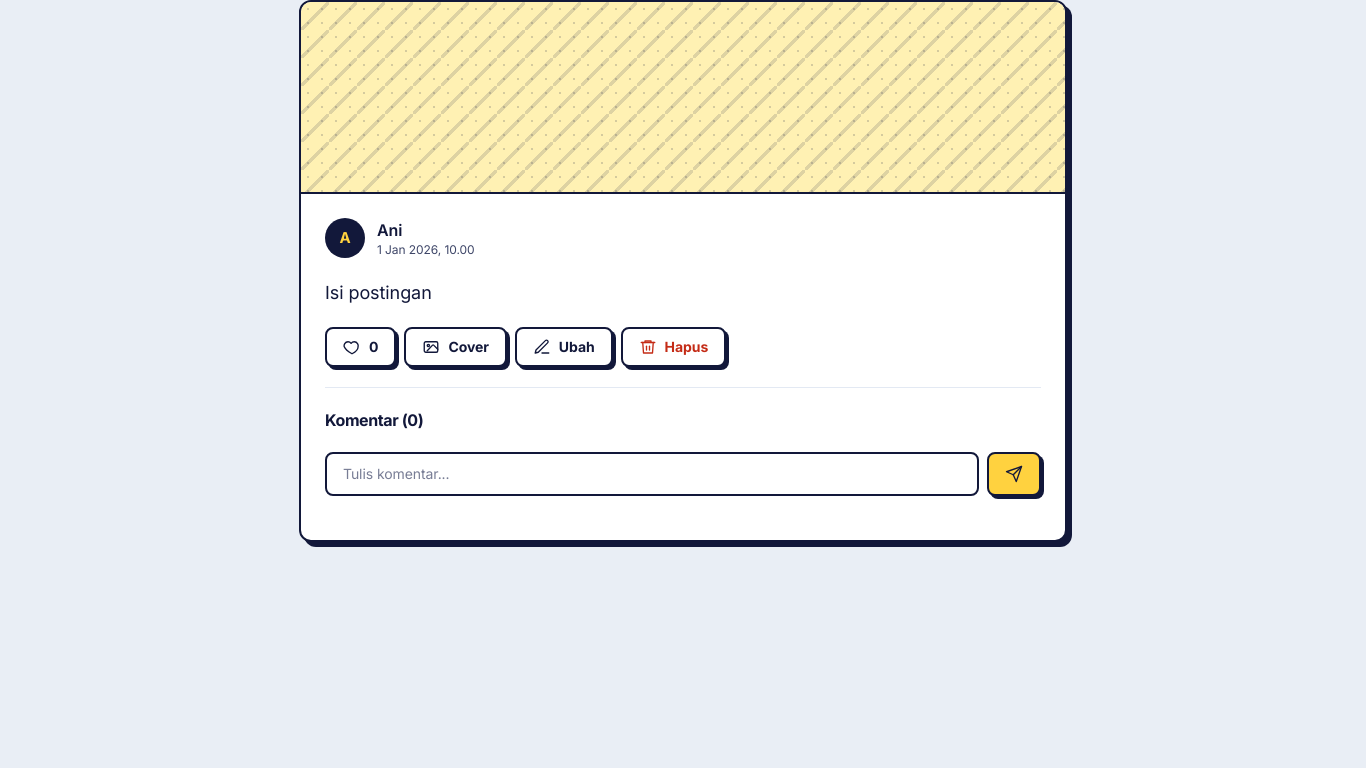
Scenario: DetailPage › aksi pemilik › membuka modal ubah postingan dan menutupnya
Click the button "Ubah". click: (564, 347)
box: [515,327,613,367]
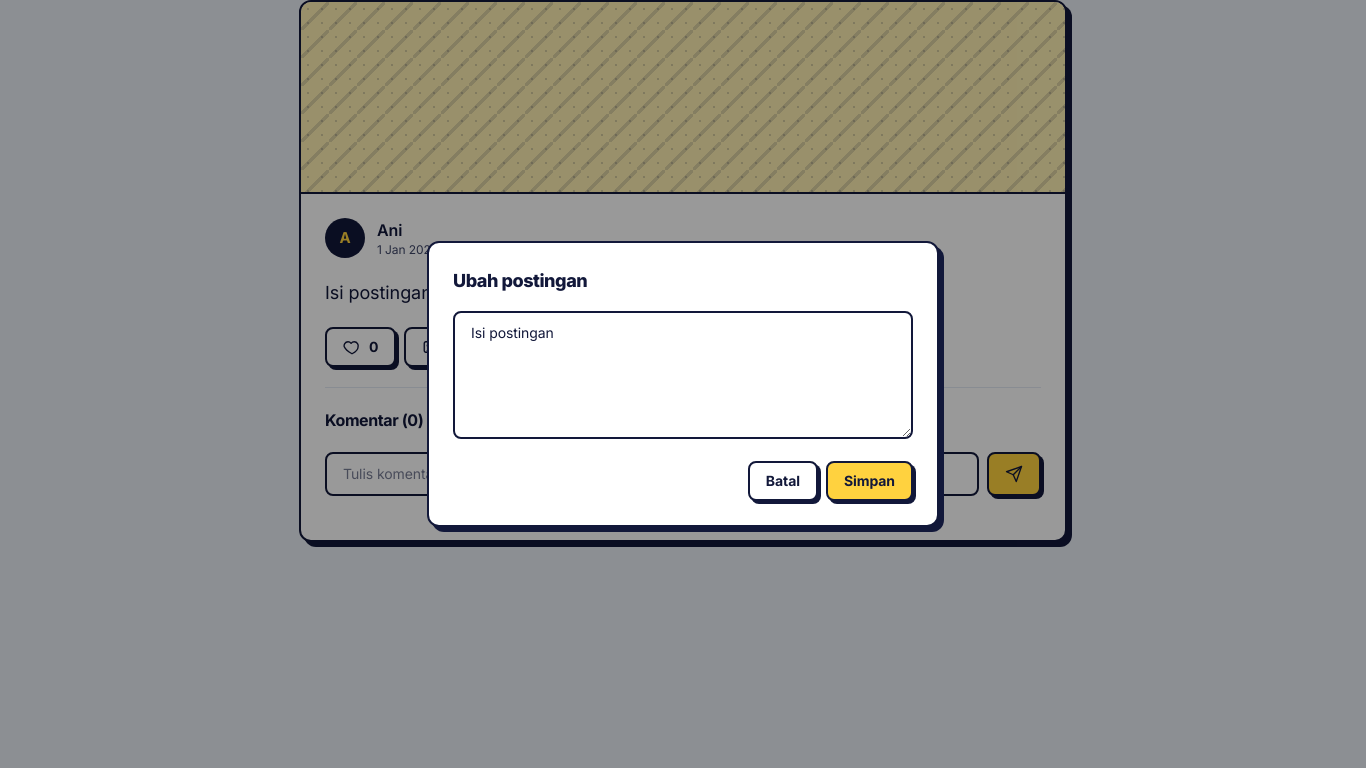
Expected: the heading "Ubah postingan" is shown, [453,270,587,291]
Click the button "Batal". click: (783, 481)
box: [748,461,818,501]
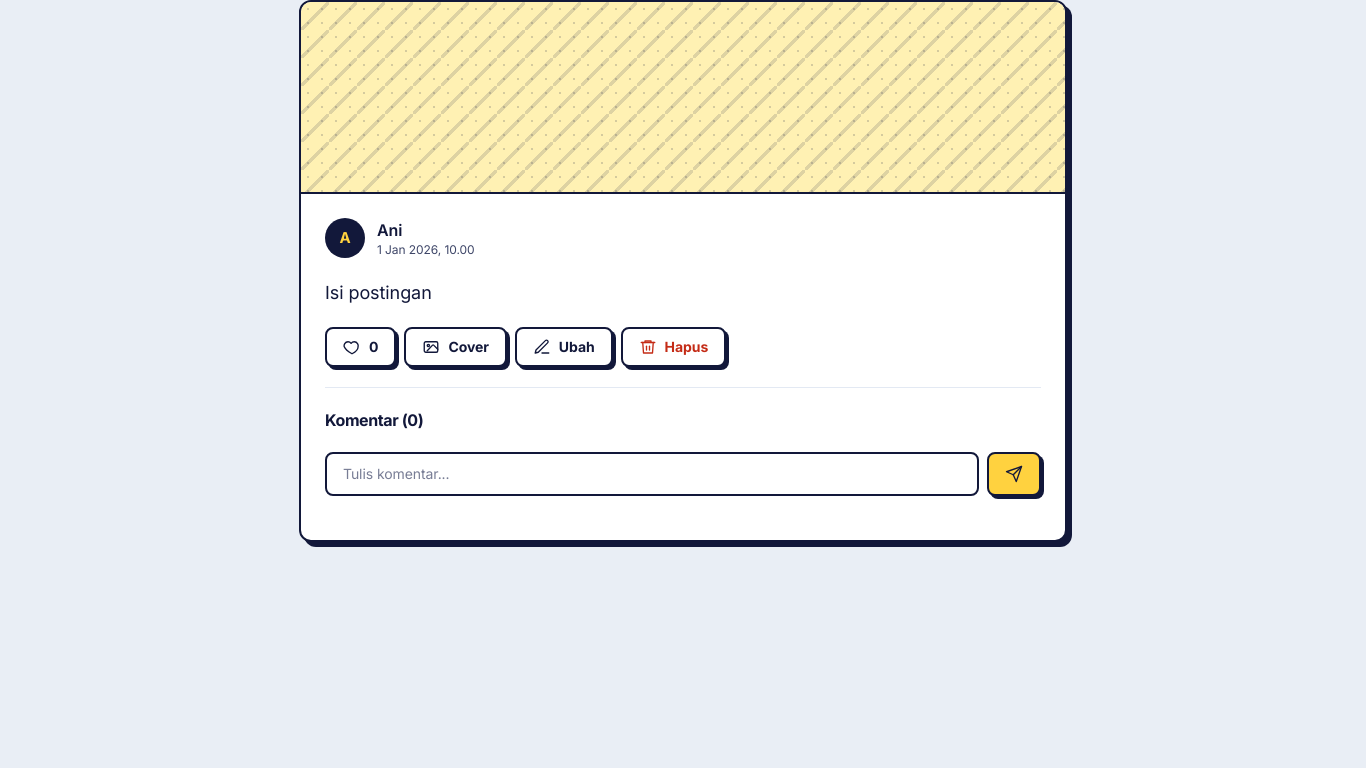
Expected: the heading "Ubah postingan" is gone
